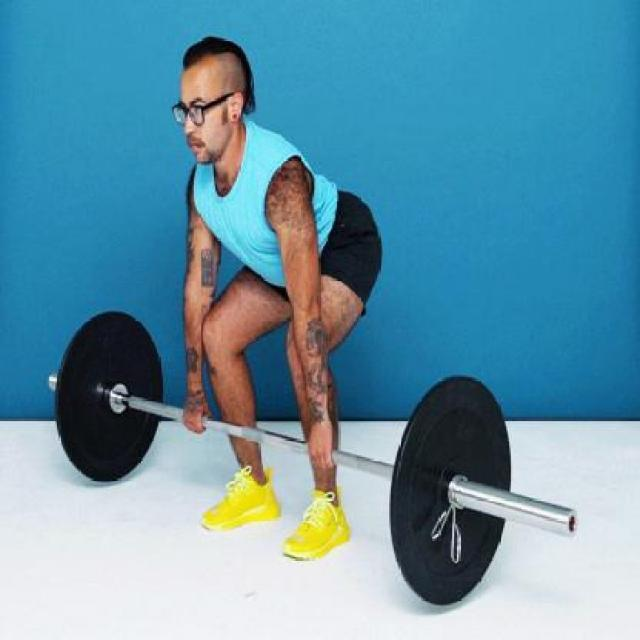Barbell: (560, 503, 588, 543)
